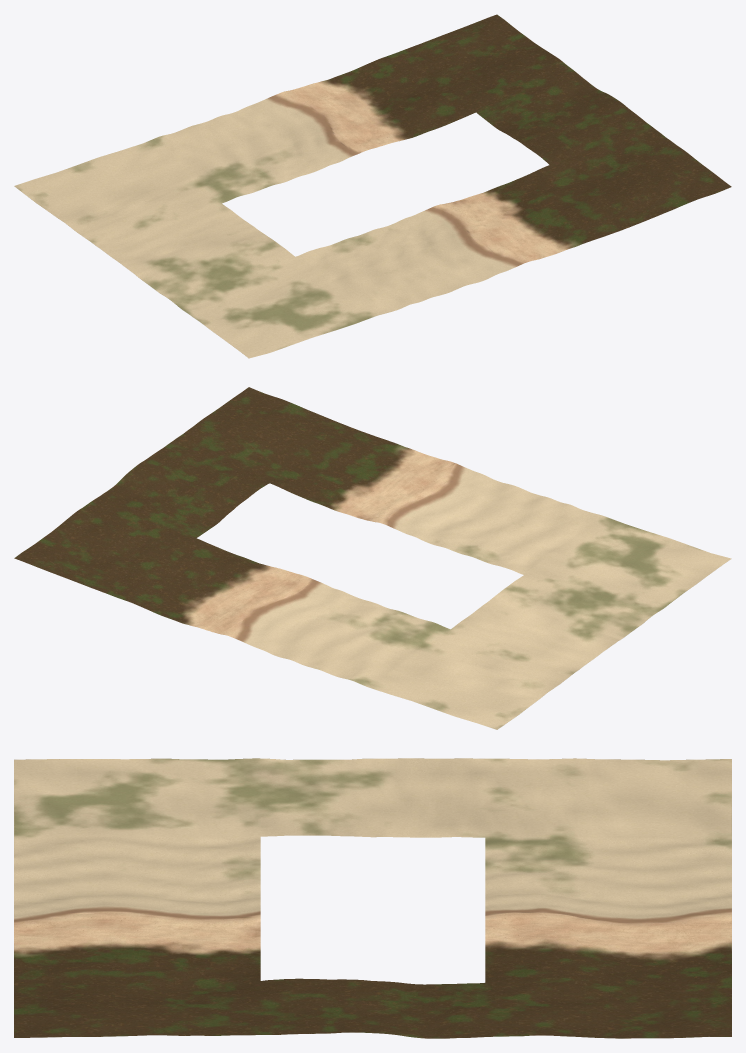
Rendered from IO_Terrain_Surround_Test.glb.
The picture shows the model from 3 angles, top to bottom: view 1: azimuth 30°, elevation 25°; view 2: azimuth 150°, elevation 25°; view 3: azimuth 270°, elevation 25°; orthographic projection. The views are drawn at different scales.
Parts seen in each view (by area): view 1: IO_Terrain_Surround_Test; view 2: IO_Terrain_Surround_Test; view 3: IO_Terrain_Surround_Test.
Boxes of the visible parts, box(x1,y1,x2,y2) form: IO_Terrain_Surround_Test: box(14, 14, 731, 358); IO_Terrain_Surround_Test: box(14, 387, 731, 729); IO_Terrain_Surround_Test: box(14, 758, 731, 1038).
Size of the model in its own units: 114 by 12.99 by 96.
1 material, 1 textured.
